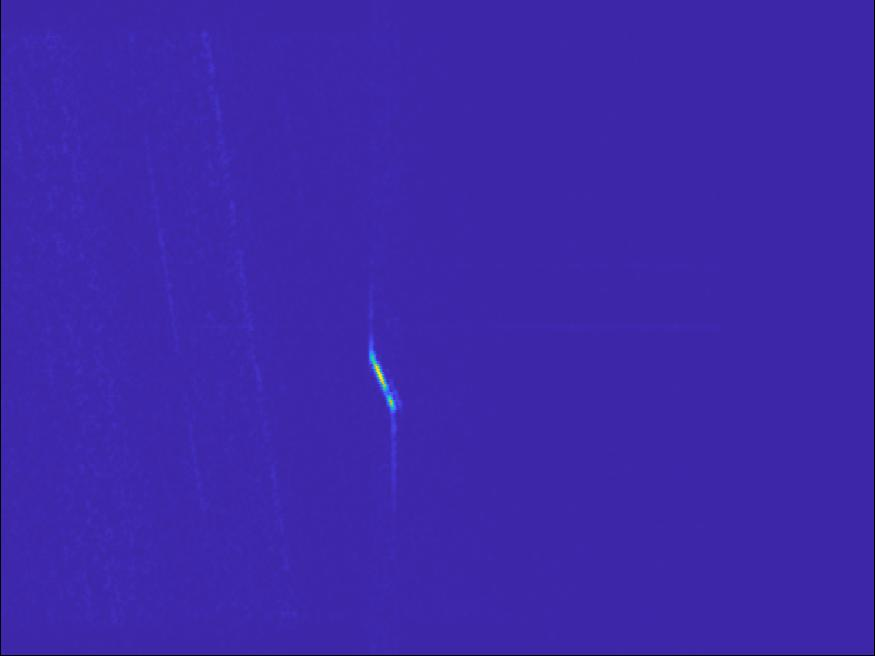Interference: (603, 52, 720, 97), (597, 321, 704, 361)
